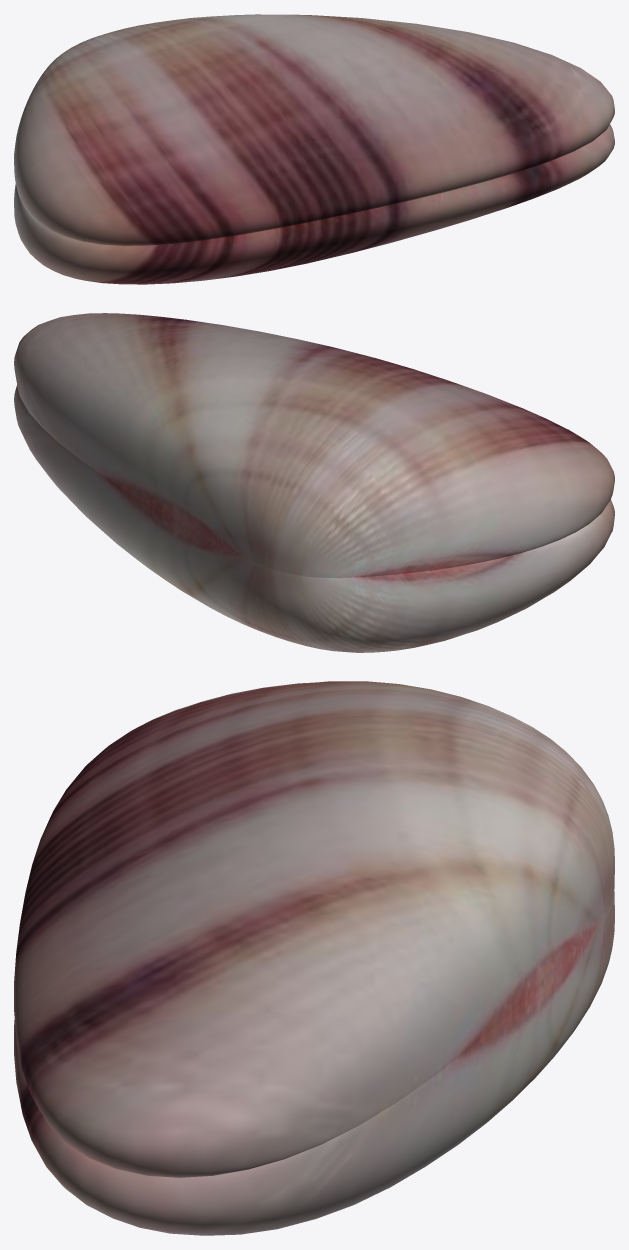
The model's file is Chipichipi.fbx.
The picture shows the model from 3 angles, top to bottom: view 1: azimuth 30°, elevation 25°; view 2: azimuth 150°, elevation 25°; view 3: azimuth 270°, elevation 25°; orthographic projection. The views are drawn at different scales.
Parts seen in each view (by area): view 1: Chipichipi; view 2: Chipichipi; view 3: Chipichipi.
Part boxes in pixels (box(x1,y1,x2,y2)): Chipichipi: box(14, 14, 614, 284); Chipichipi: box(14, 313, 614, 652); Chipichipi: box(14, 681, 614, 1235).
Size of the model in its own units: 485 by 186 by 290.
1 material, 1 textured.
